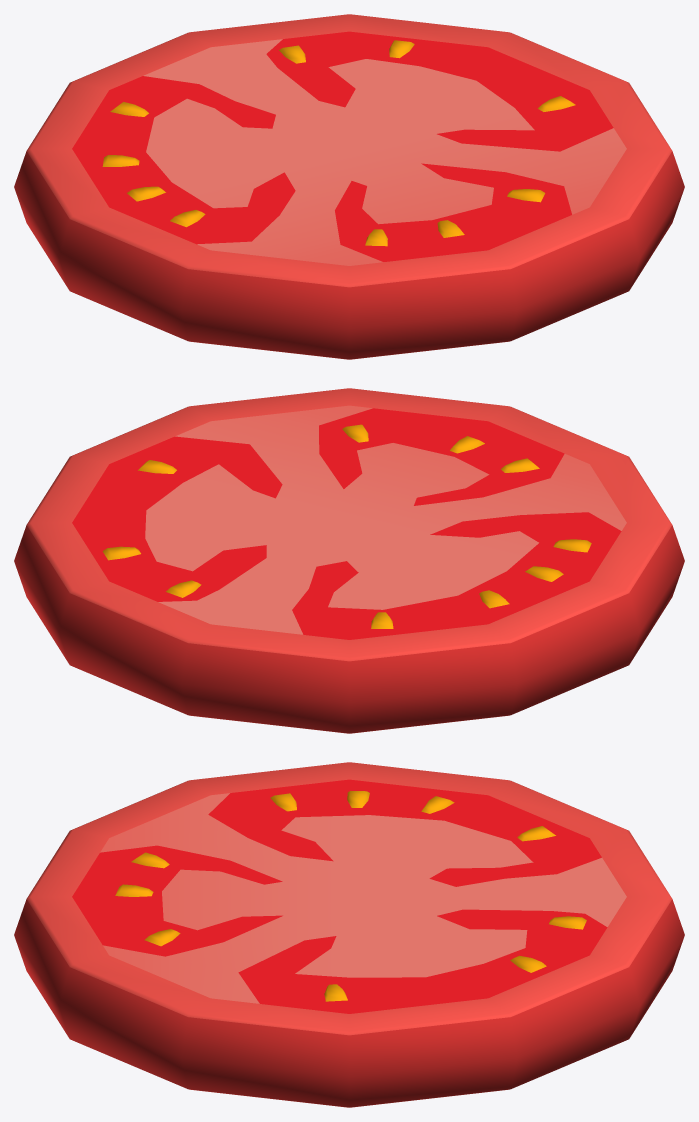
The model's file is Tomato_slice_pink_Hotdog.fbx.
The picture shows the model from 3 angles, top to bottom: view 1: azimuth 30°, elevation 25°; view 2: azimuth 150°, elevation 25°; view 3: azimuth 270°, elevation 25°; orthographic projection.
Parts seen in each view (by area): view 1: Tomato_slice_pink_Hotdog; view 2: Tomato_slice_pink_Hotdog; view 3: Tomato_slice_pink_Hotdog.
Boxes of the visible parts, box(x1,y1,x2,y2) form: Tomato_slice_pink_Hotdog: box(14, 14, 684, 359); Tomato_slice_pink_Hotdog: box(14, 388, 684, 733); Tomato_slice_pink_Hotdog: box(14, 762, 684, 1107).
Bounding box in the file's own units: 59.32 × 59.32 × 8.21.
